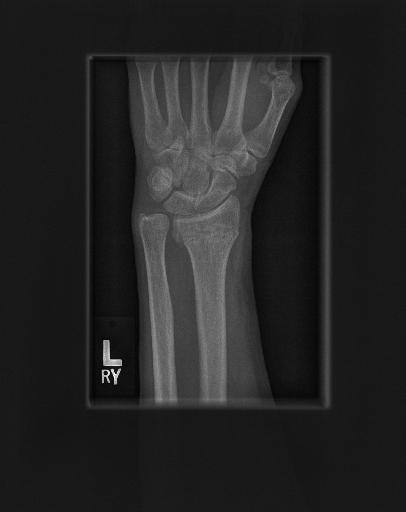fractured: (169, 214, 256, 248)
